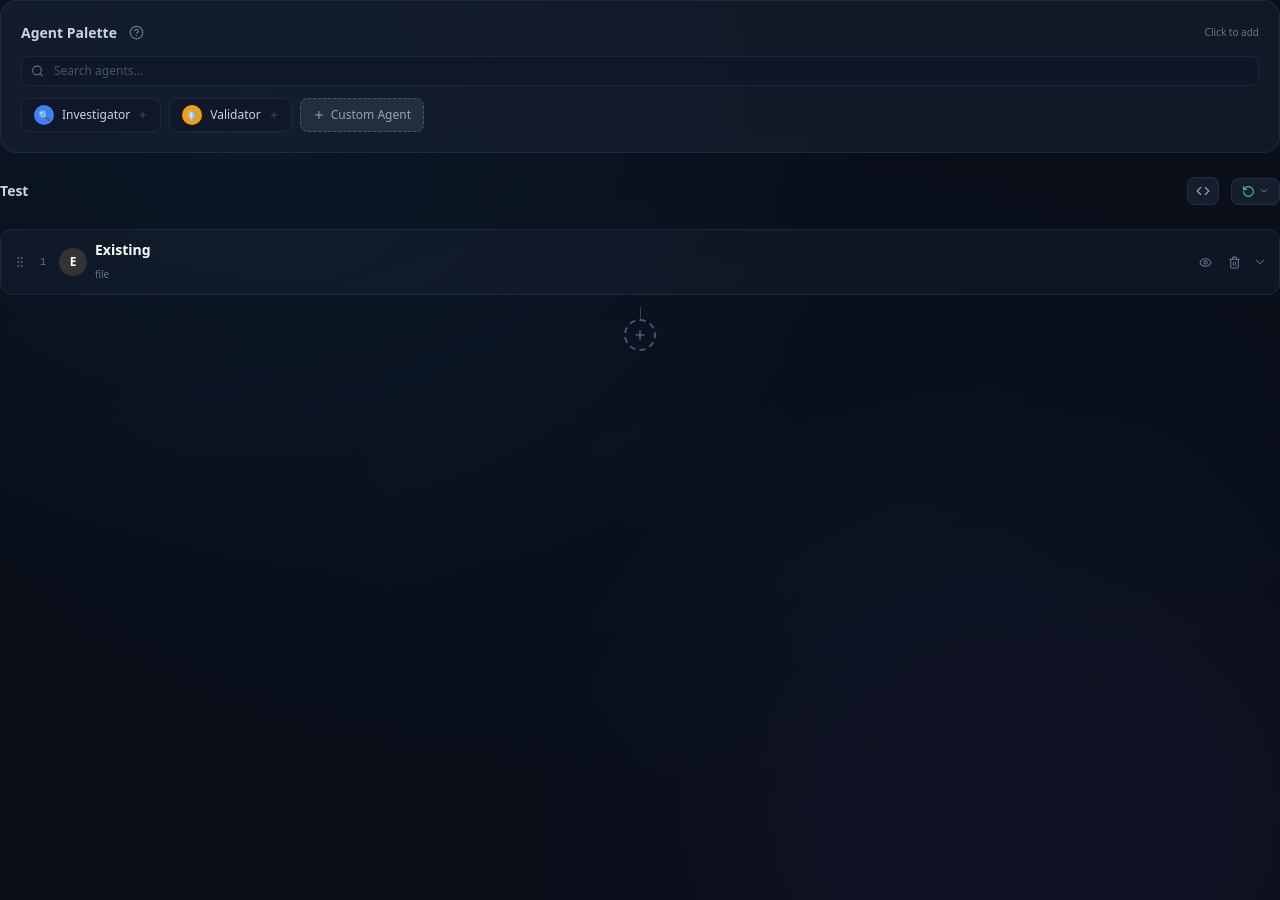
PipelineBuilder – AgentModal Save to Library › does not show Save to Library when viewing a stage agent
The image size is (1280, 900).
// Click the view-agent button (eye icon) on the stage card
Click the button titled "View agent details" at (1206, 262), box [1195,252,1216,272]
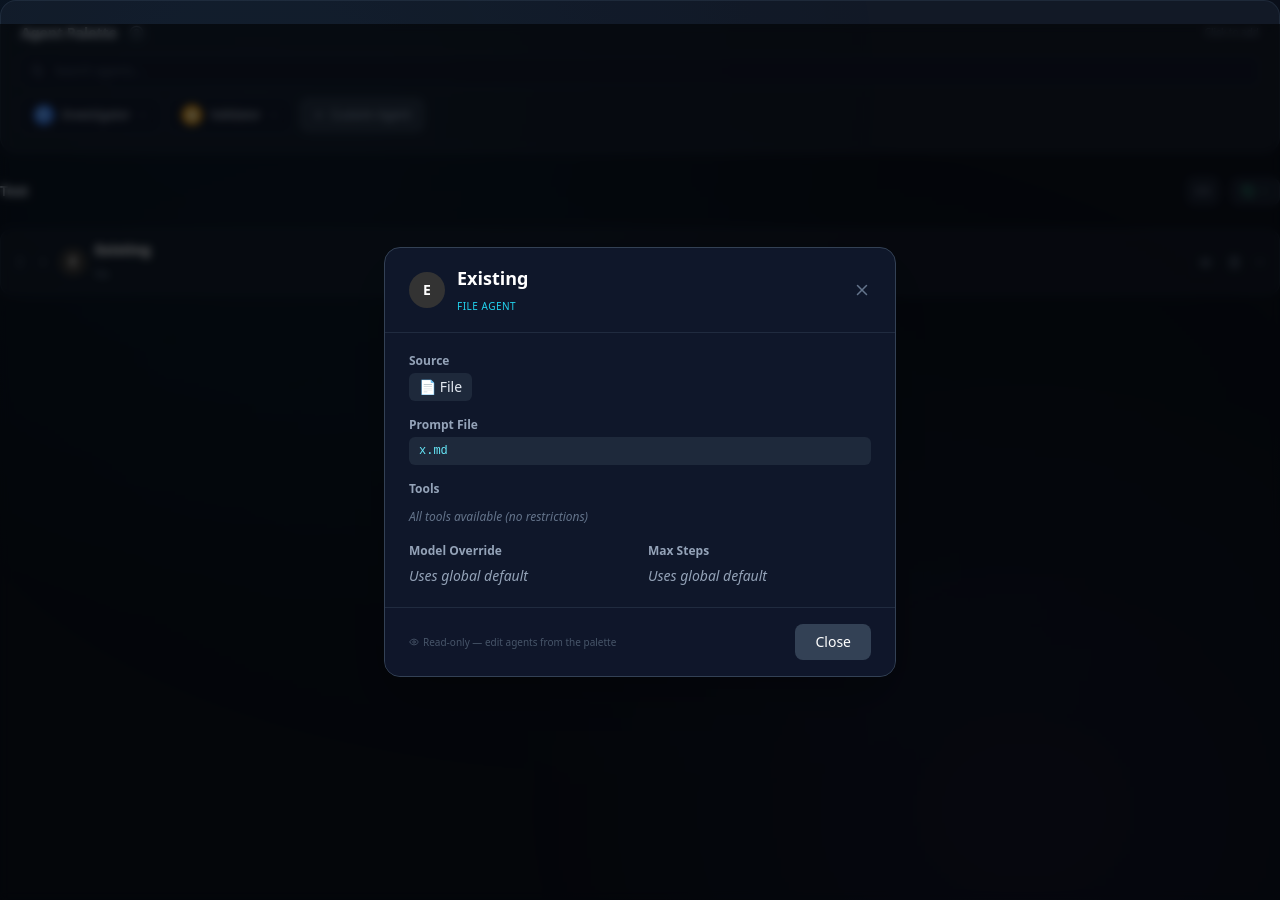
Check: the text "Read-only — edit agents from the palette" is shown, box [409,634,616,650]
